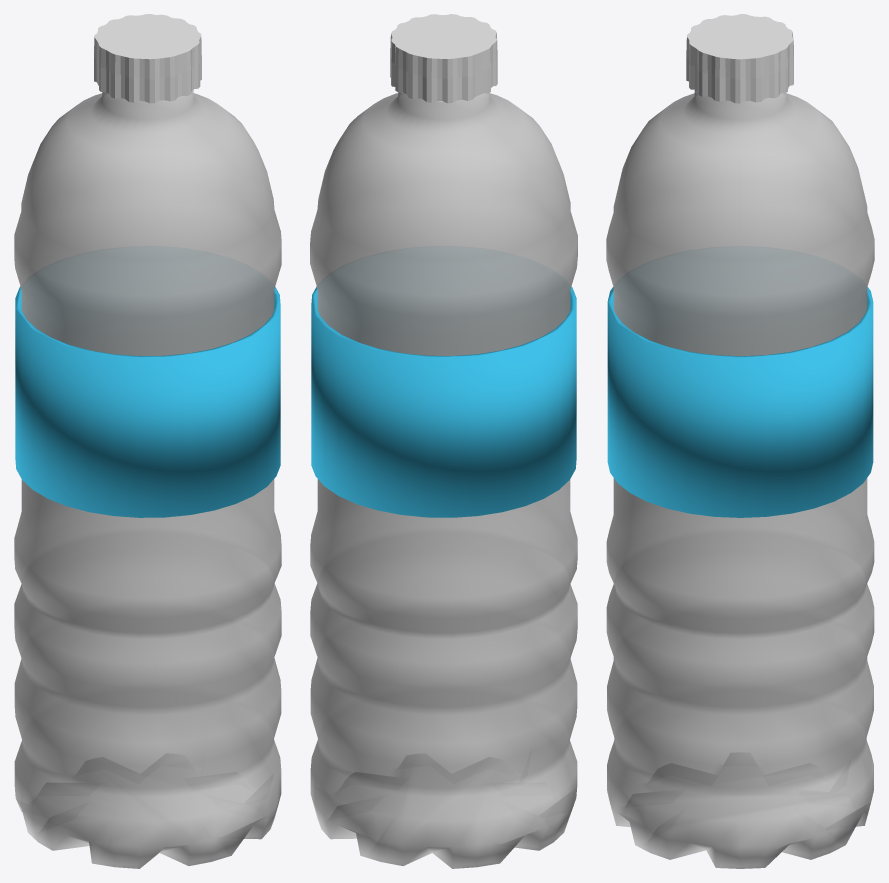
Rendered from ptb4.fbx.
The picture shows the model from 3 angles, left to right: view 1: azimuth 30°, elevation 25°; view 2: azimuth 150°, elevation 25°; view 3: azimuth 270°, elevation 25°; orthographic projection.
Visible parts, largest first — view 1: 円柱, 円柱.001, 円柱.002; view 2: 円柱, 円柱.001, 円柱.002; view 3: 円柱, 円柱.001, 円柱.002.
Part boxes in pixels (box(x1,y1,x2,y2)): 円柱: box(14, 90, 281, 868); 円柱.001: box(15, 286, 280, 517); 円柱.002: box(94, 14, 201, 103); 円柱: box(310, 92, 577, 868); 円柱.001: box(311, 286, 576, 517); 円柱.002: box(390, 14, 497, 103); 円柱: box(606, 90, 874, 868); 円柱.001: box(607, 287, 873, 517); 円柱.002: box(686, 14, 793, 103).
Size of the model in its own units: 212 by 678 by 212.
